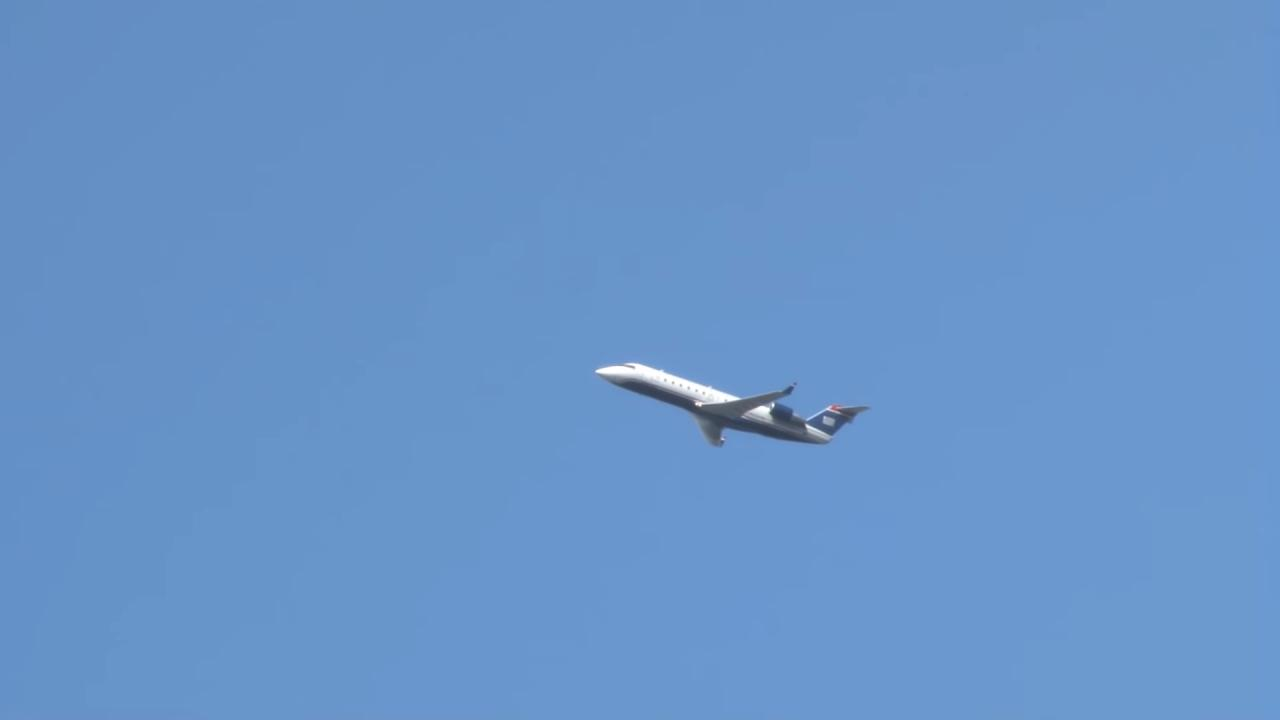Airplane: (579, 350, 884, 467)
